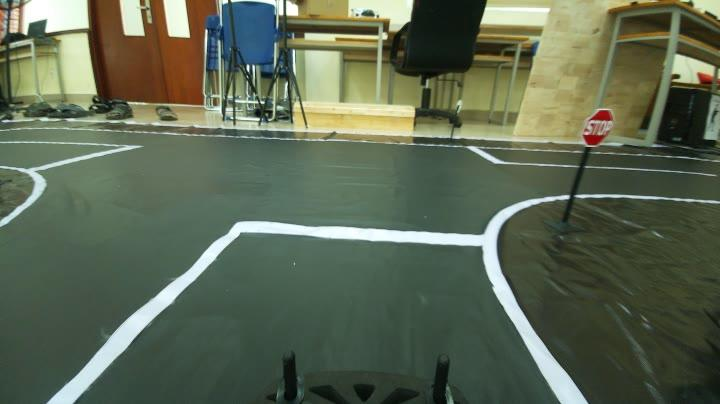stop: (581, 104, 618, 146)
